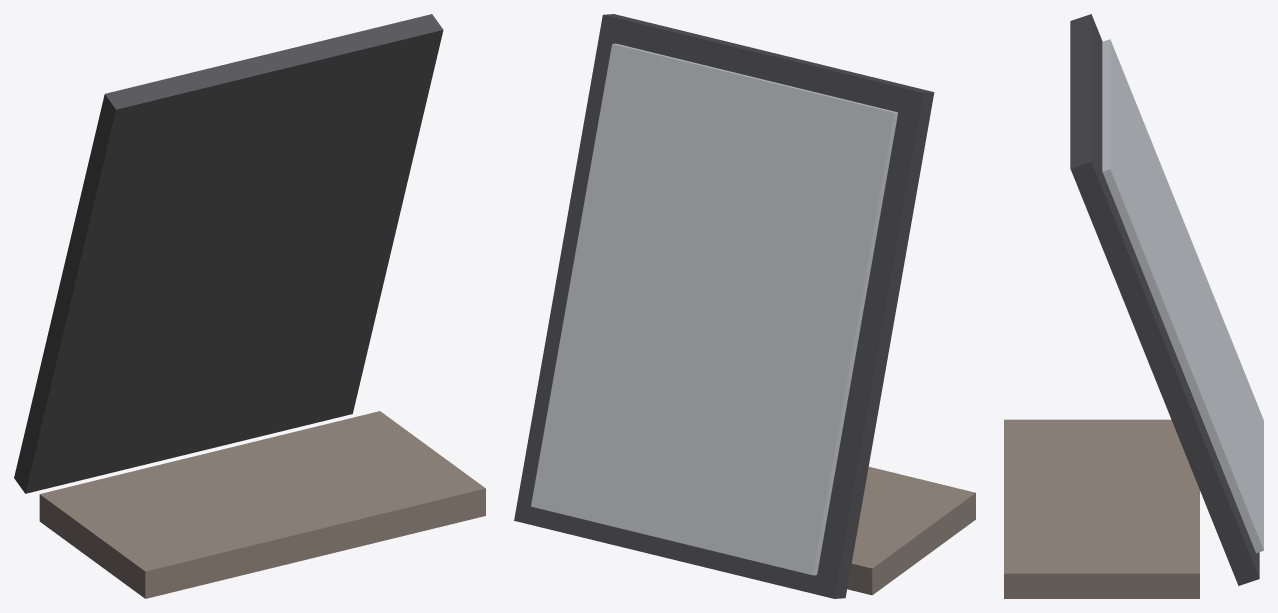
Rendered from elet_tablet.glb.
The picture shows the model from 3 angles, left to right: view 1: azimuth 30°, elevation 25°; view 2: azimuth 150°, elevation 25°; view 3: azimuth 270°, elevation 25°; orthographic projection. The views are drawn at different scales.
Visible parts, largest first — view 1: ELET_TABLET_v01; view 2: ELET_TABLET_v01; view 3: ELET_TABLET_v01.
Boxes of the visible parts, <box> form: ELET_TABLET_v01: <box>14,14,485,598</box>; ELET_TABLET_v01: <box>514,14,975,598</box>; ELET_TABLET_v01: <box>1004,14,1263,598</box>.
Size of the model in its own units: 0.26 by 0.3421 by 0.1857.
